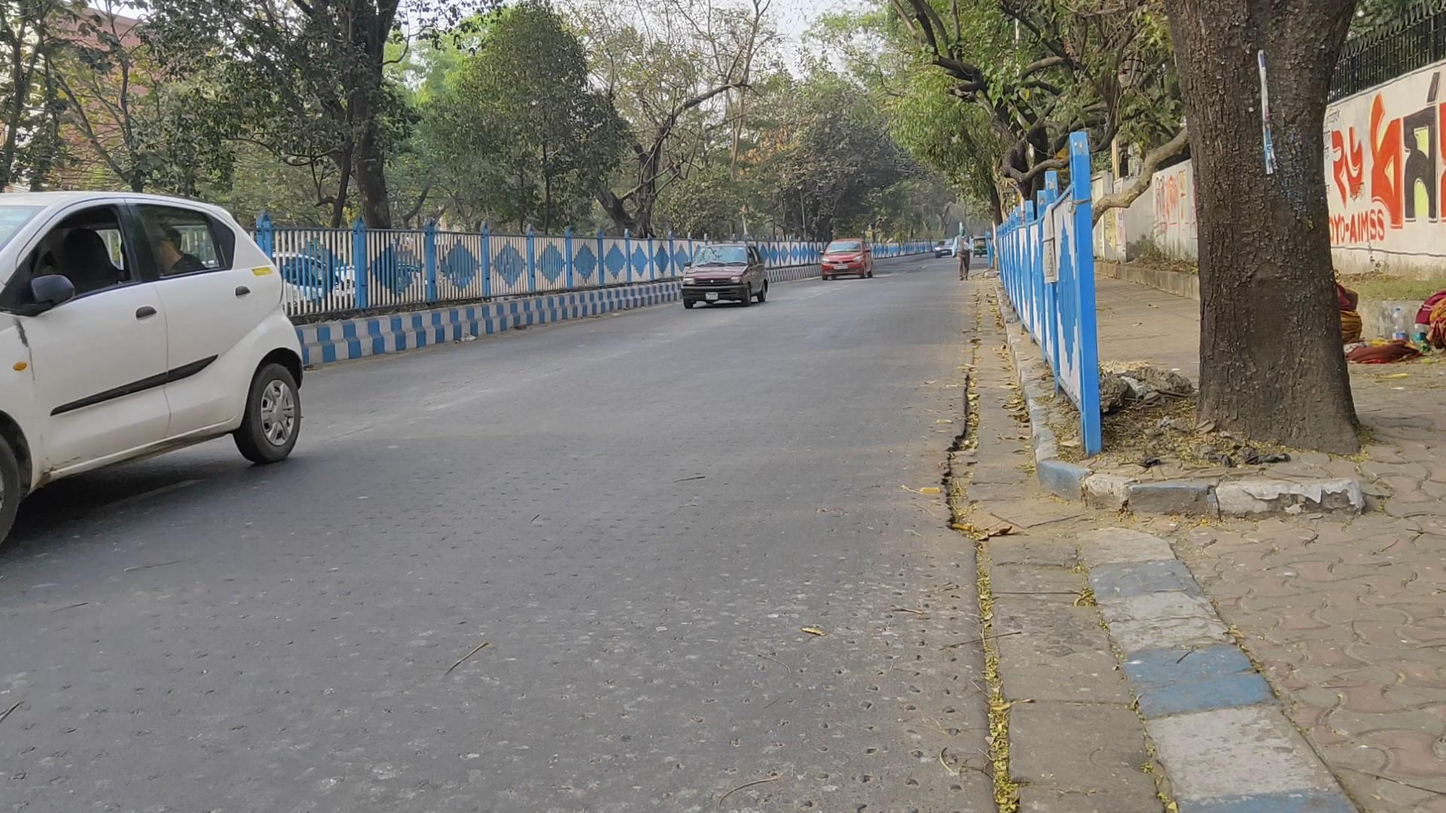Auto: (972, 235, 988, 260)
car: (2, 190, 304, 550), (682, 242, 769, 311), (819, 237, 874, 283), (934, 238, 956, 260)
